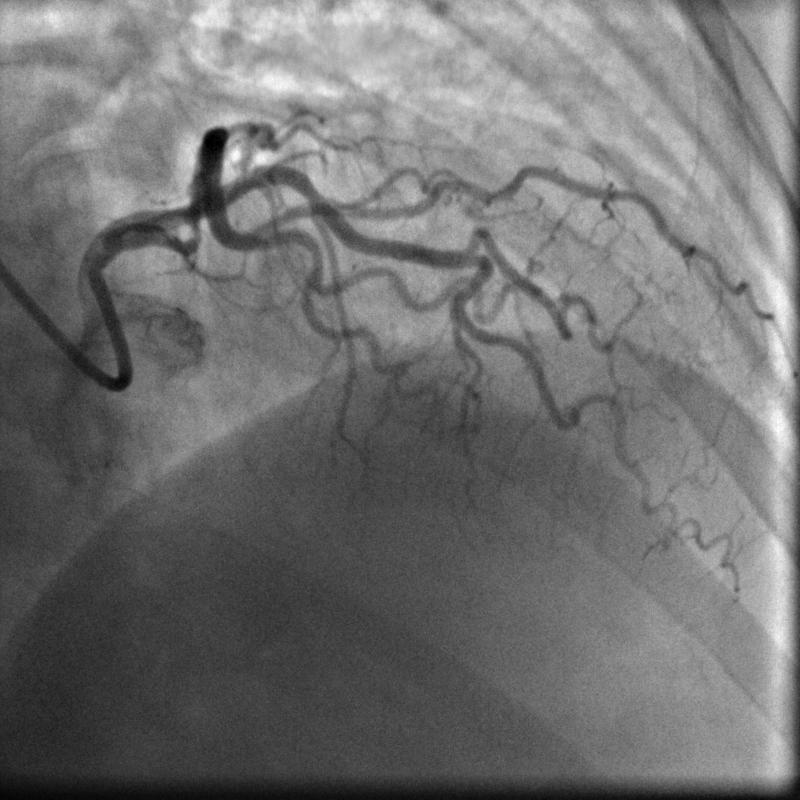Stenosis: (182, 207, 208, 257)
